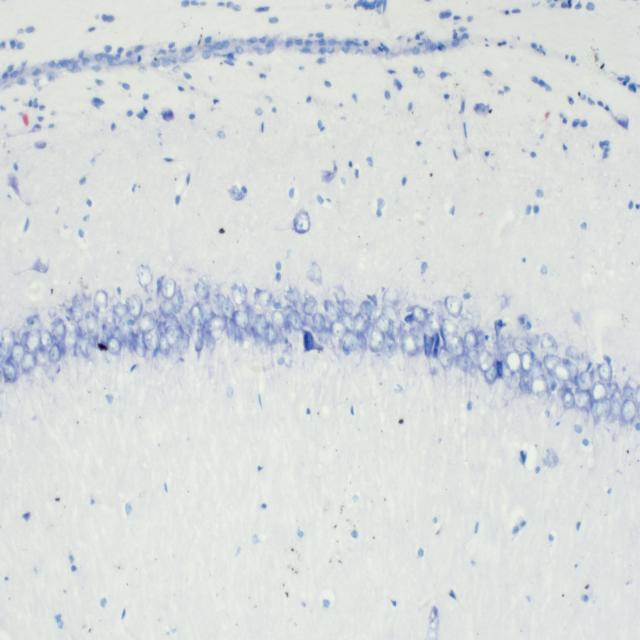neuron: (158, 314, 179, 338), (323, 300, 343, 324), (537, 332, 557, 356), (574, 388, 593, 412), (446, 333, 464, 358), (620, 399, 636, 427), (137, 311, 157, 333), (444, 296, 464, 318), (135, 264, 153, 288), (286, 308, 304, 332), (368, 328, 386, 352), (401, 330, 417, 357), (426, 313, 444, 337), (441, 317, 459, 341), (85, 311, 100, 339), (410, 324, 425, 352), (438, 346, 454, 372), (128, 295, 144, 320), (430, 299, 449, 320), (553, 362, 572, 383), (338, 310, 356, 332), (478, 347, 493, 373), (244, 303, 256, 335), (306, 262, 322, 286), (382, 287, 401, 307), (230, 284, 248, 305), (530, 375, 548, 396), (142, 328, 159, 350), (208, 314, 225, 336), (301, 294, 318, 316), (411, 304, 428, 326), (135, 327, 147, 358), (25, 329, 41, 352), (160, 278, 176, 301), (197, 298, 213, 321), (506, 351, 522, 374), (191, 324, 204, 352), (252, 314, 266, 340), (1, 327, 16, 351), (51, 318, 66, 342), (383, 335, 398, 359), (563, 358, 578, 382), (165, 324, 182, 345), (194, 278, 210, 300), (351, 313, 367, 335), (64, 324, 77, 351), (590, 399, 604, 424), (331, 318, 346, 341), (253, 288, 272, 306), (564, 345, 582, 364), (591, 382, 608, 402), (94, 289, 108, 313), (176, 331, 190, 355), (189, 303, 203, 327), (200, 330, 216, 351), (264, 321, 278, 345), (284, 284, 300, 305), (21, 350, 36, 372), (520, 351, 535, 373), (26, 314, 44, 332), (543, 354, 561, 372), (221, 297, 235, 320), (271, 308, 285, 331), (232, 308, 248, 328), (342, 332, 358, 352), (381, 303, 397, 323), (172, 288, 184, 314), (112, 302, 131, 318), (2, 362, 17, 382), (609, 401, 622, 424), (600, 398, 611, 425), (48, 344, 62, 365), (312, 312, 326, 333), (465, 348, 479, 369), (12, 341, 24, 365), (158, 332, 170, 356), (356, 332, 368, 356), (375, 314, 391, 332), (580, 370, 596, 388), (622, 384, 638, 402), (81, 332, 92, 358), (38, 328, 53, 347), (34, 346, 48, 366), (465, 330, 479, 350), (598, 362, 612, 382), (512, 336, 528, 353), (457, 354, 472, 372), (525, 331, 540, 349), (160, 298, 174, 317), (225, 317, 237, 339), (318, 326, 331, 346), (341, 298, 356, 315), (562, 388, 573, 411), (102, 310, 116, 328), (108, 336, 122, 354), (386, 322, 400, 340), (501, 362, 511, 387), (484, 364, 497, 383), (360, 300, 372, 320), (69, 305, 83, 322), (519, 374, 532, 391), (606, 381, 619, 398), (113, 326, 125, 344), (129, 332, 139, 353), (74, 337, 85, 356), (18, 326, 30, 342), (0, 342, 9, 363), (72, 294, 84, 309)
